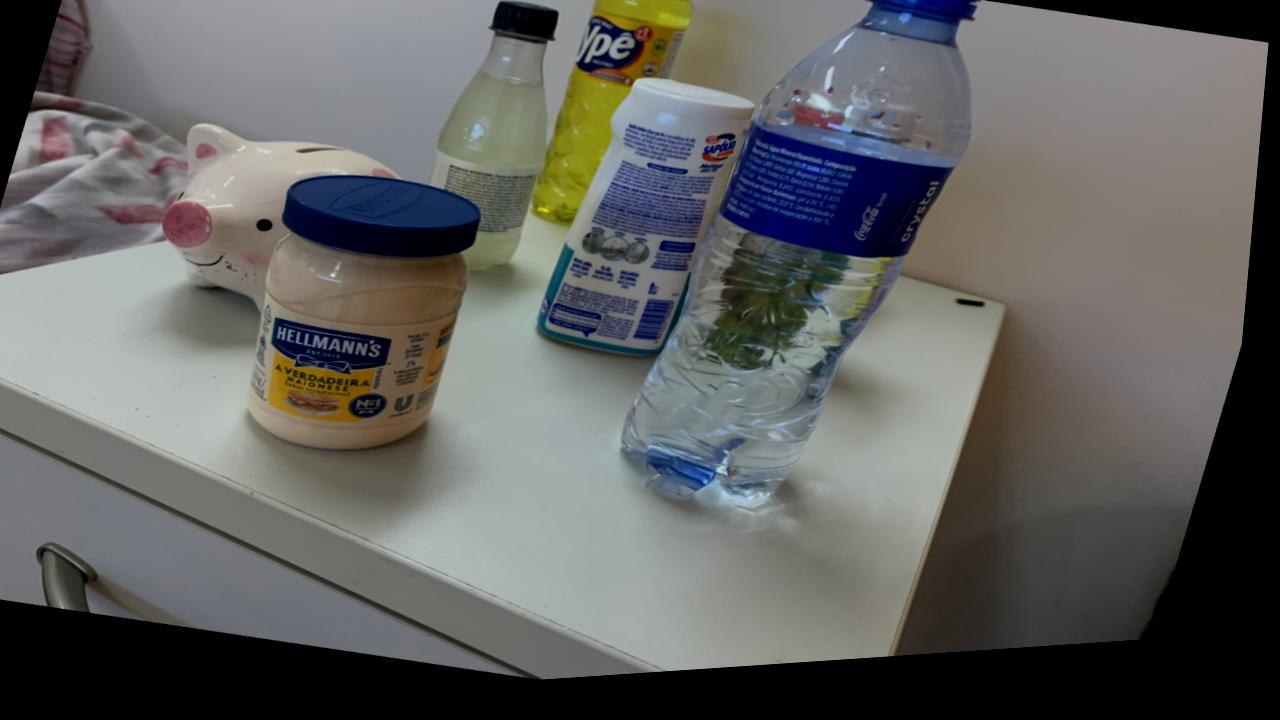Cleaner-Cleanup_Items: (543, 87, 757, 365)
Detergent-Cleanup_Items: (536, 0, 694, 232)
Mayonnaise-Pantry_Items: (254, 180, 486, 455)
Pig_Safe-Miscellaneous: (166, 126, 398, 312)
Soda-Drinks: (434, 8, 558, 277)
Water_Bottle-Drinks: (629, 0, 977, 514)
